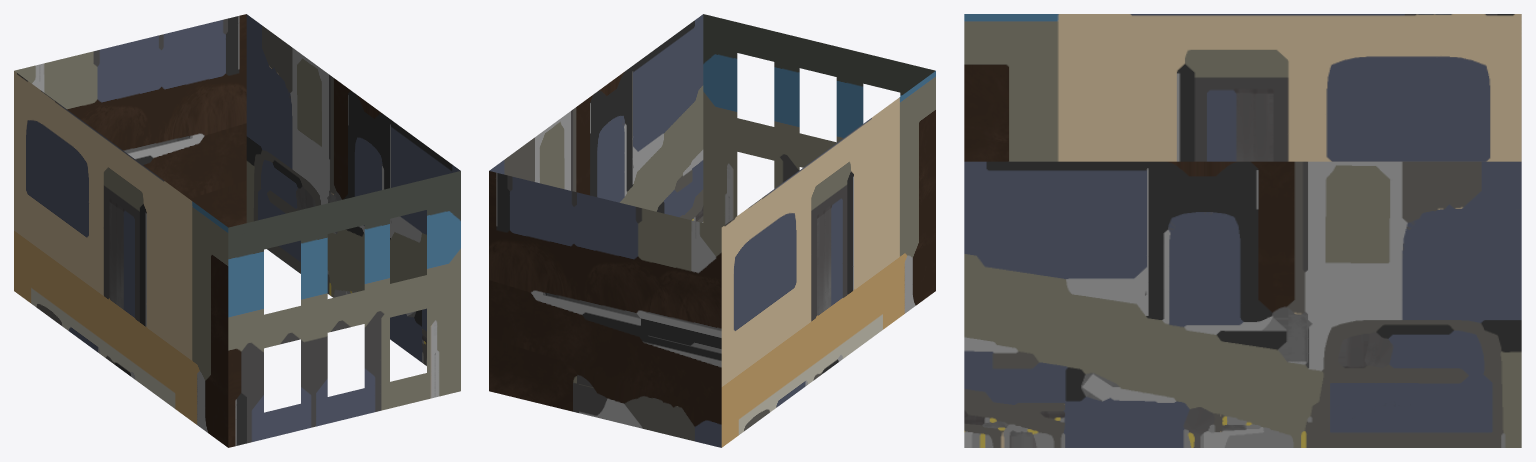
Rendered from M_3W_2F_building_body.fbx.
The picture shows the model from 3 angles, left to right: view 1: azimuth 30°, elevation 25°; view 2: azimuth 150°, elevation 25°; view 3: azimuth 270°, elevation 25°; orthographic projection. The views are drawn at different scales.
Visible parts, largest first — view 1: Object055; view 2: Object055; view 3: Object055.
Boxes of the visible parts, x1=… form: Object055: x1=14, y1=14, x2=460, y2=447; Object055: x1=489, y1=14, x2=935, y2=447; Object055: x1=964, y1=14, x2=1521, y2=447.
Size of the model in its own units: 1736 by 1572 by 2772.
